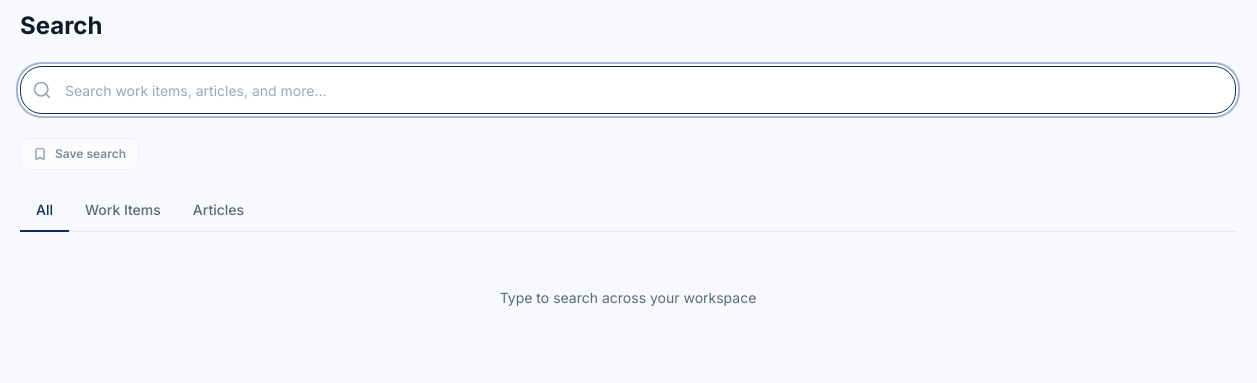
Scenario: SearchView › renders article results with title
Type "guide" into the search field at (628, 90), box [20, 66, 1236, 114]
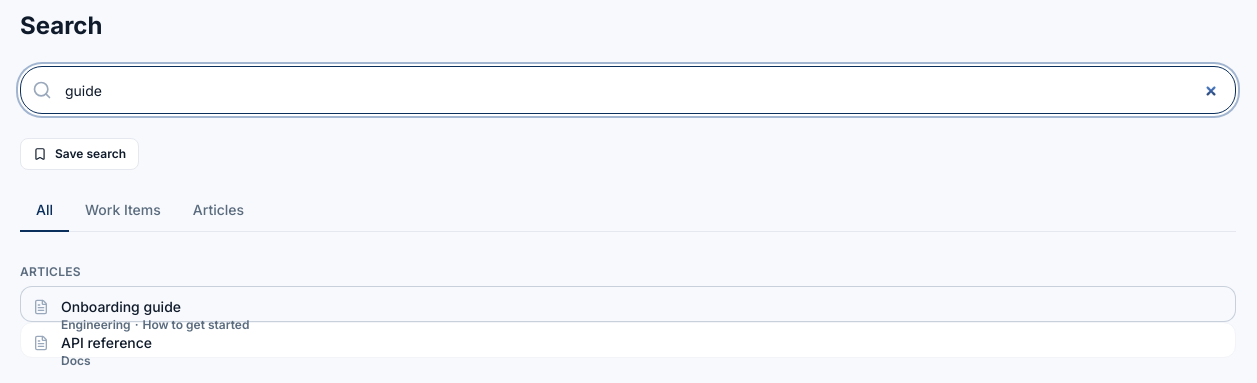
Check: the text "Onboarding guide" is shown, box [61, 298, 181, 315]
Check: the text "API reference" is shown, box [61, 334, 152, 351]
